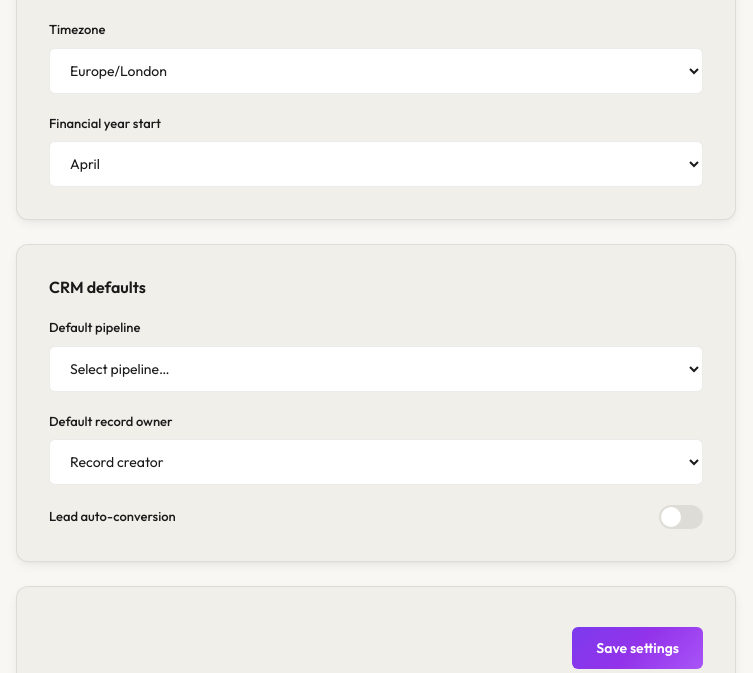
Test case: AdminTenantSettingsPage › shows a save error when the server returns a non-ok response
(page scrolled)
What coordinates should you click on to do the following:
click the button "Save settings"
I would click on:
 (638, 648)
Its box is [572,627,703,669].
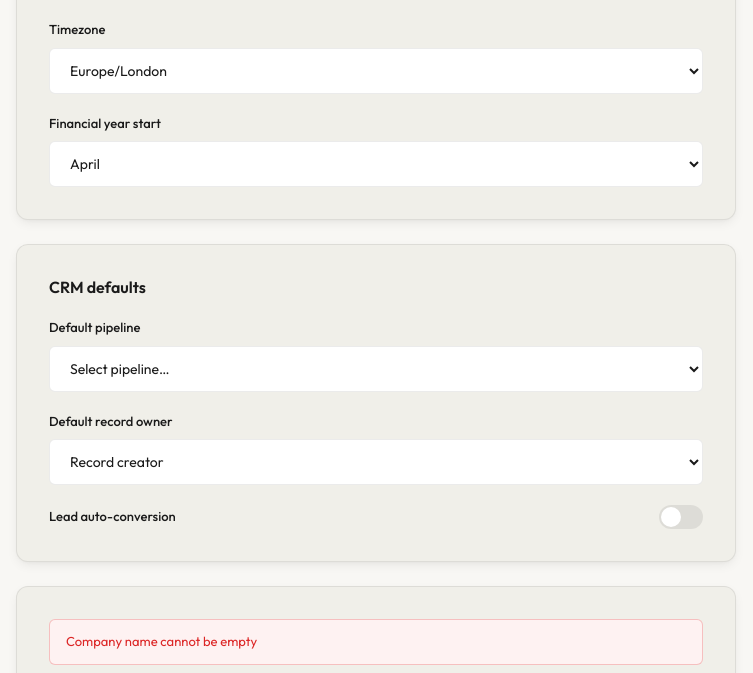
Now the message reads "Company name cannot be empty", box [66,633,257,649]
